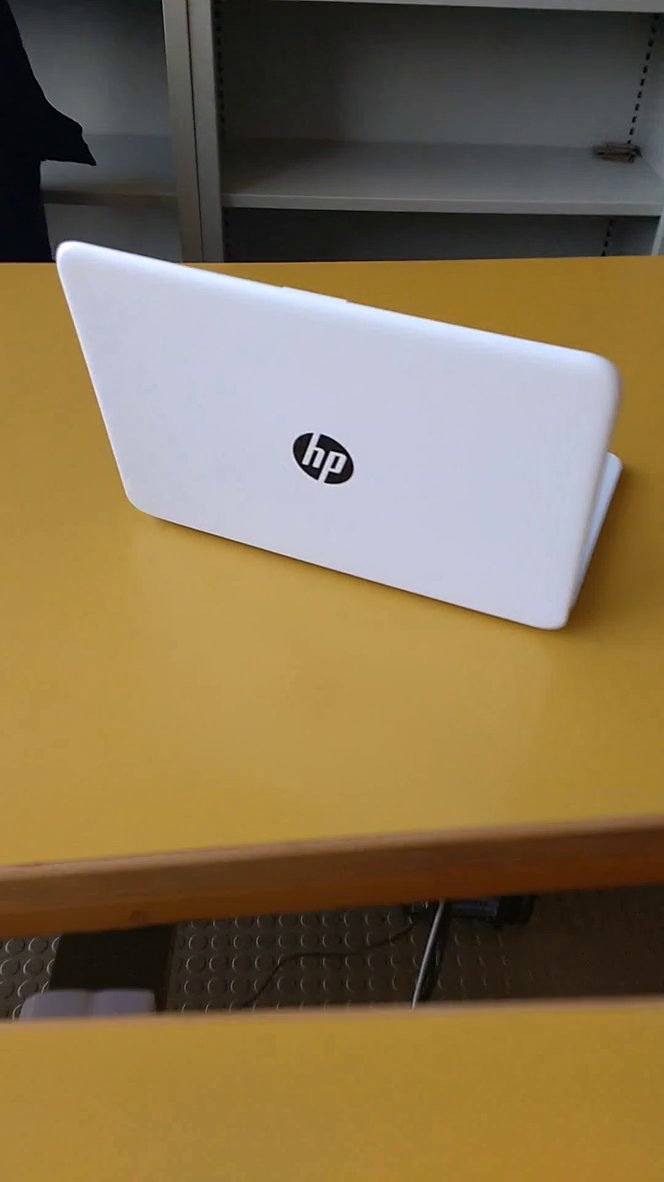laptop: (44, 224, 637, 646)
